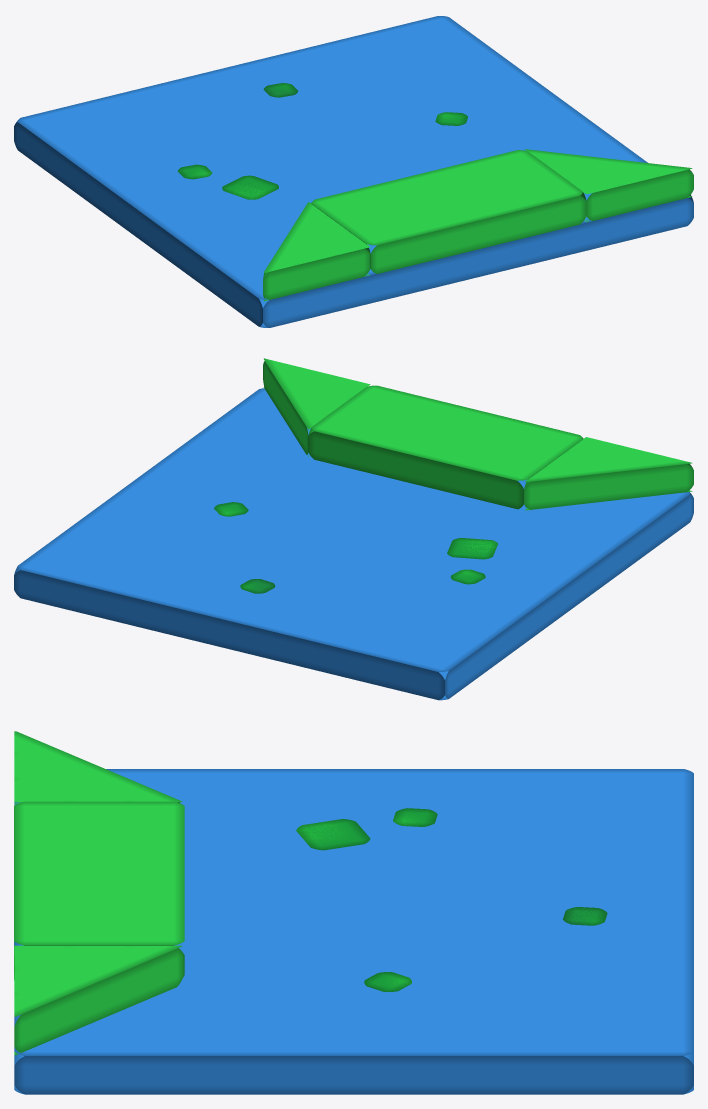
Rendered from water_u_1.obj.
The picture shows the model from 3 angles, top to bottom: view 1: azimuth 30°, elevation 25°; view 2: azimuth 150°, elevation 25°; view 3: azimuth 270°, elevation 25°; orthographic projection. The views are drawn at different scales.
Visible parts, largest first — view 1: cube, cylinder; view 2: cube, cylinder; view 3: cube, cylinder.
Boxes of the visible parts, <box> form: cube: <box>14,16,693,327</box>; cylinder: <box>263,149,693,301</box>; cube: <box>14,385,693,700</box>; cylinder: <box>263,358,693,510</box>; cube: <box>14,769,693,1094</box>; cylinder: <box>14,731,183,1055</box>.
Size of the model in its own units: 1 by 0.1256 by 1.
1 material, 1 textured.
